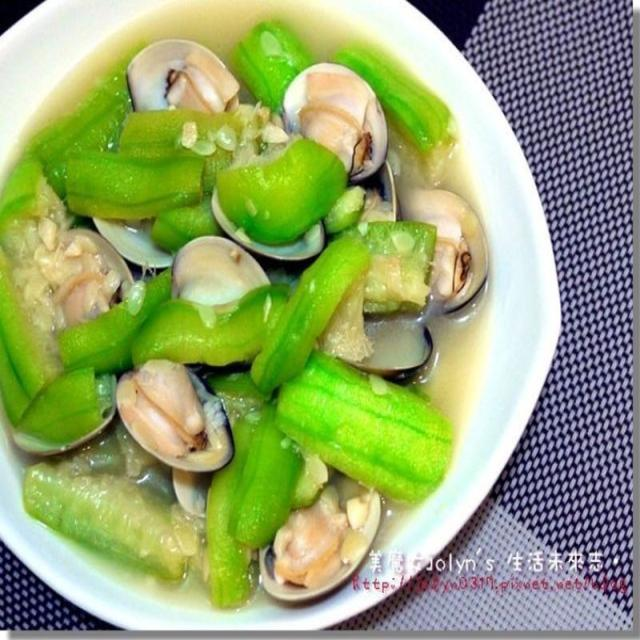Wet: (0, 13, 457, 526)
